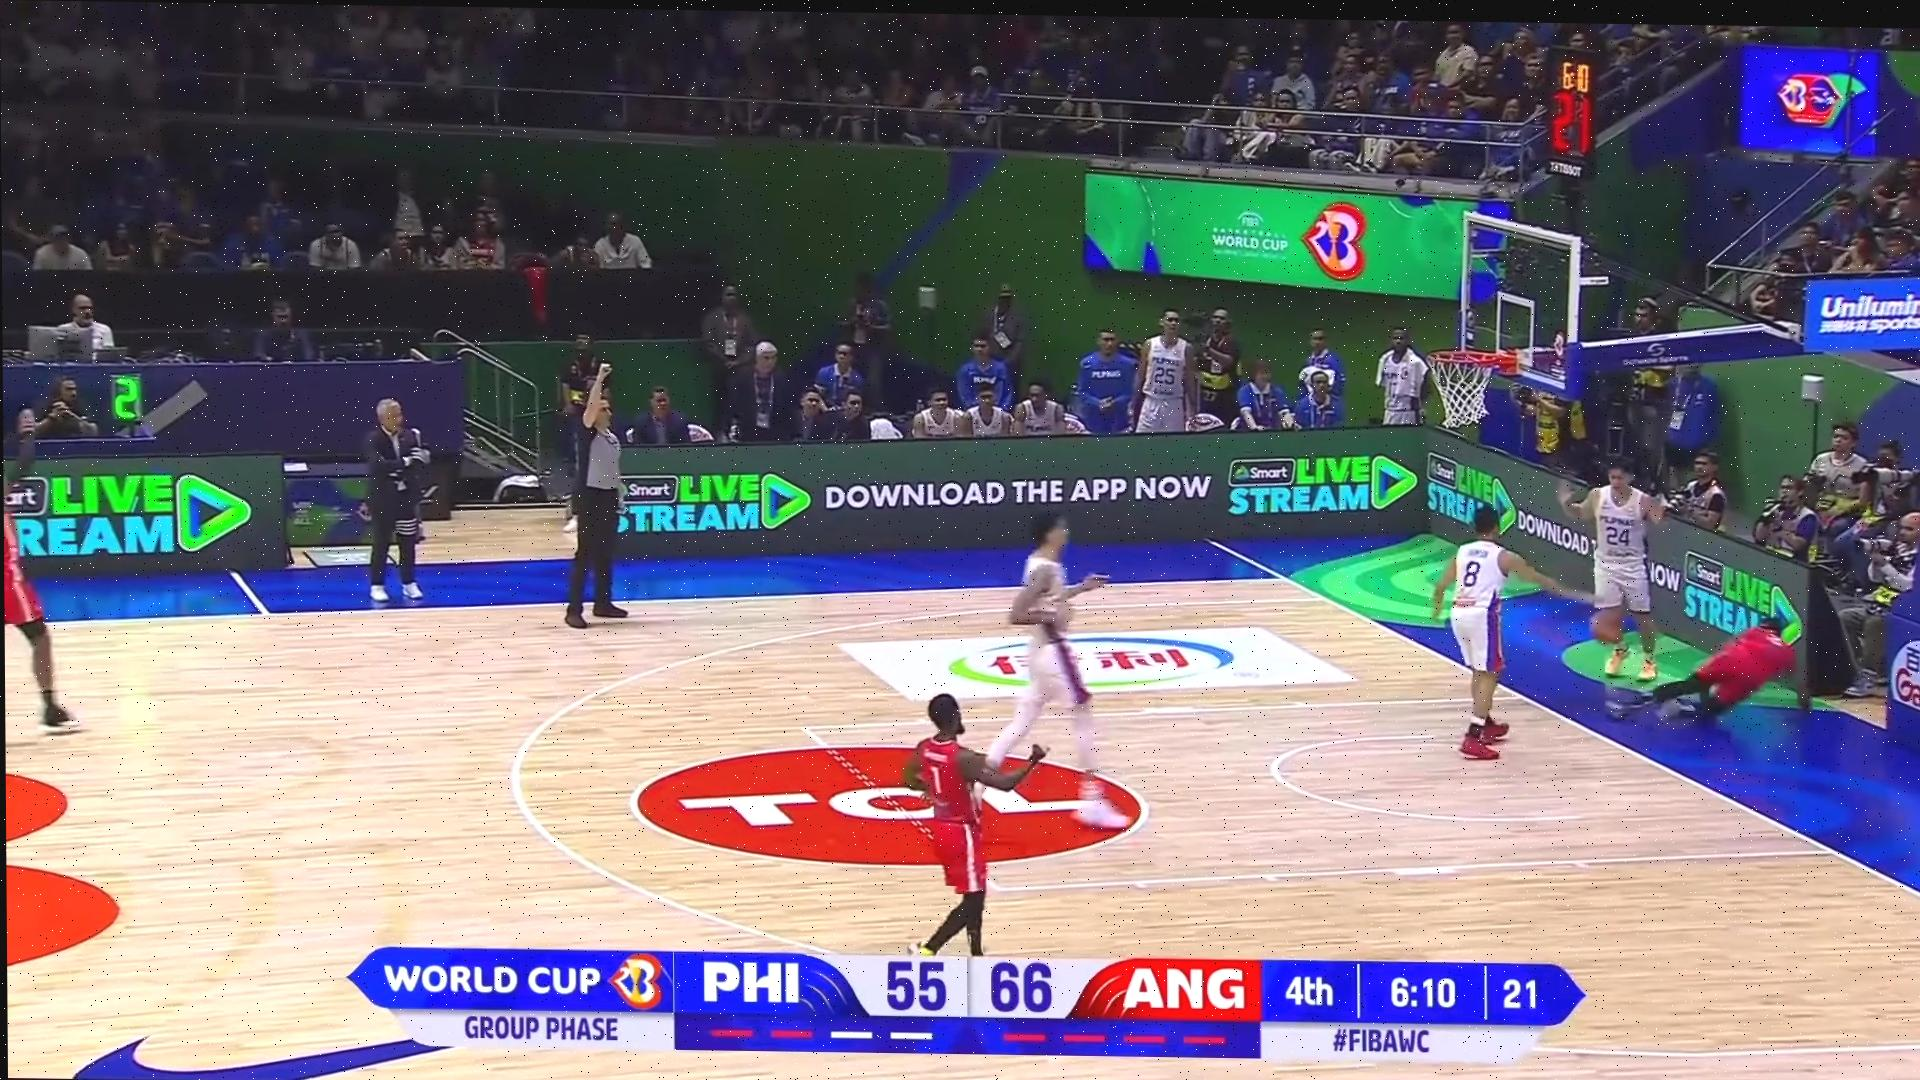foul: (1552, 468, 1791, 745)
